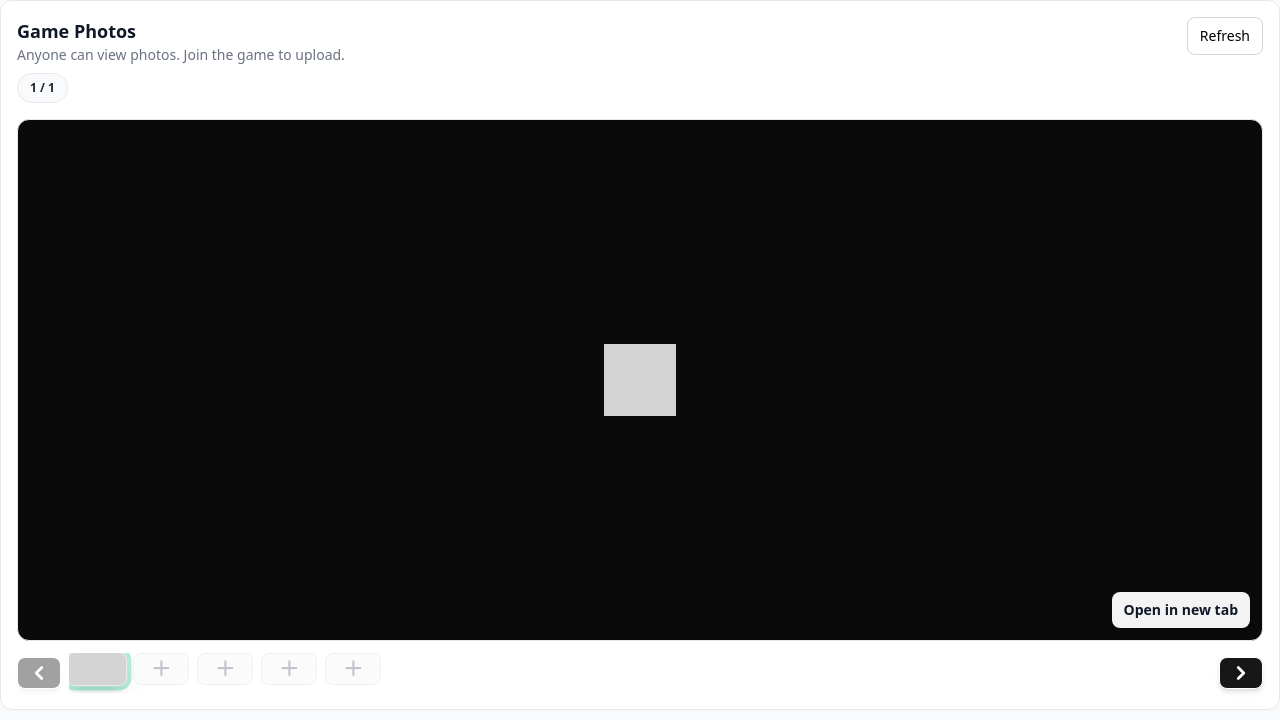
Test: PhotosPanel Component › Prev/Next arrow behavior (slot-based) › Prev is disabled at index 0; Next is disabled only at slot index 4
Check: the text "1 / 1" is shown, box [17,73,68,103]
Check: the button named "Previous thumbnail" is disabled, box [17,657,61,689]
# Move to slot 4
Click the button named "Next thumbnail" at (1241, 673), box [1219,657,1263,689]
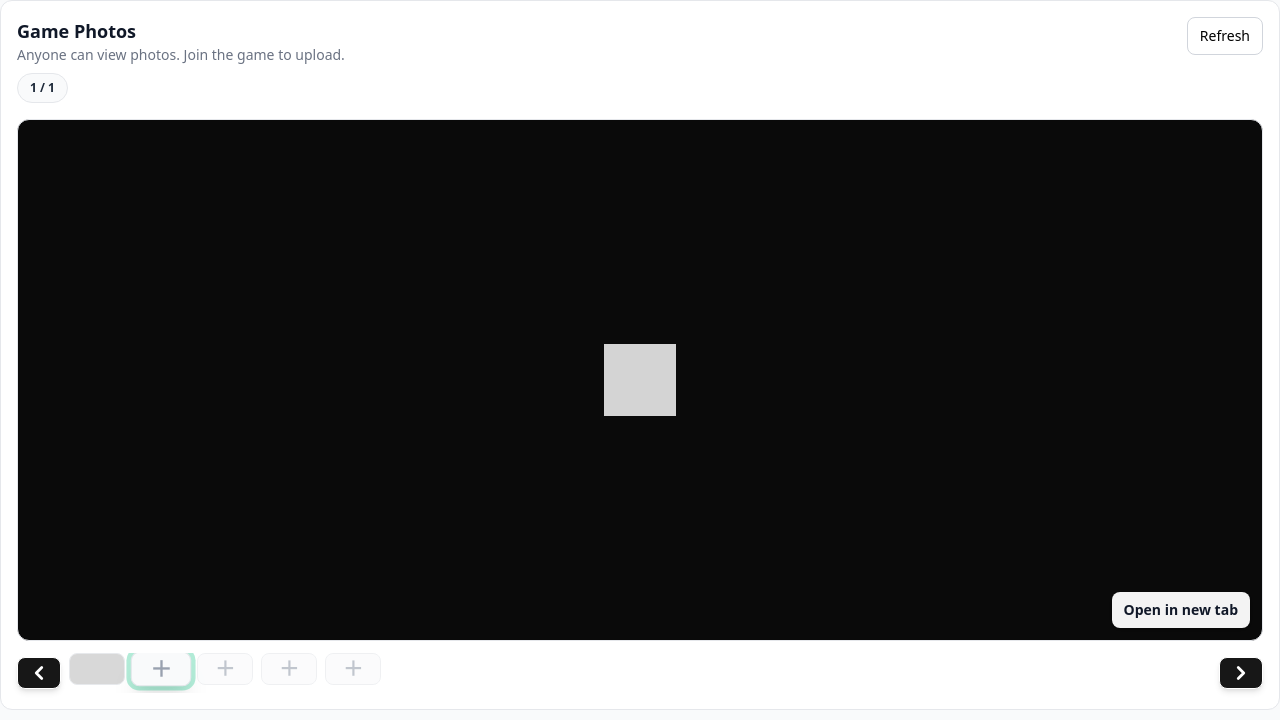
Click the button named "Next thumbnail" at (1241, 673), box [1219,657,1263,689]
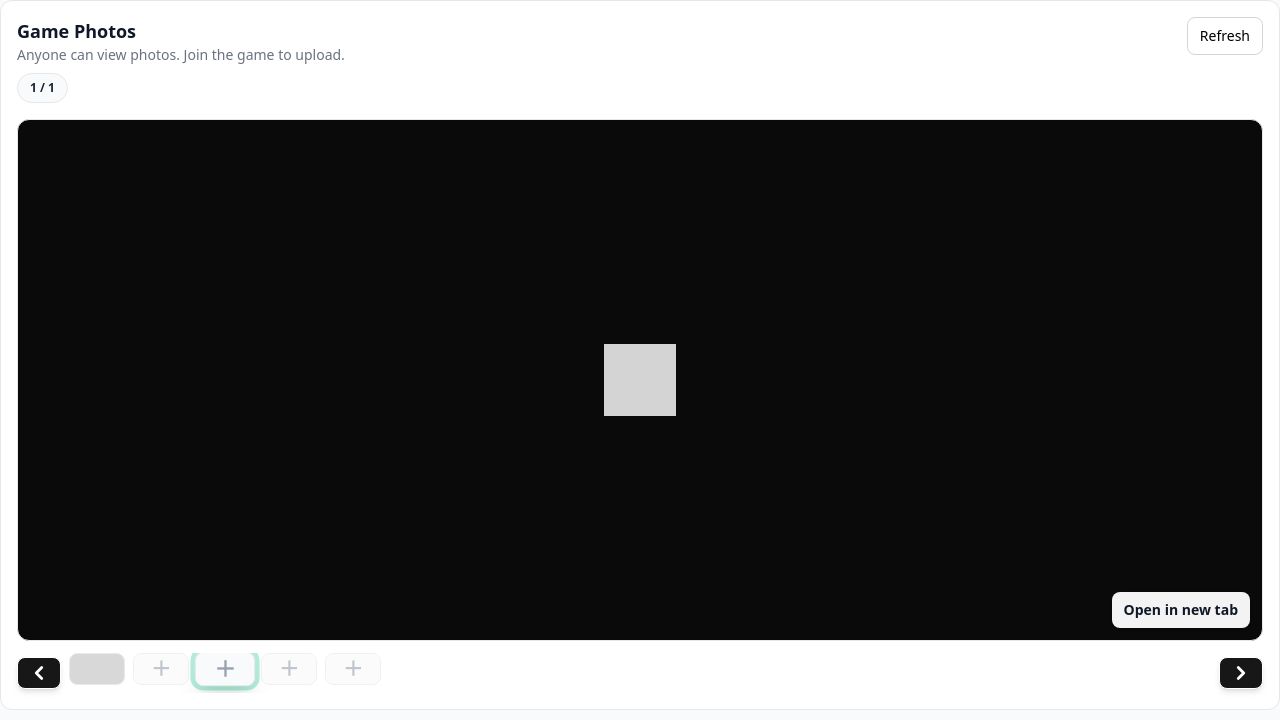
Click the button named "Next thumbnail" at (1241, 673), box [1219,657,1263,689]
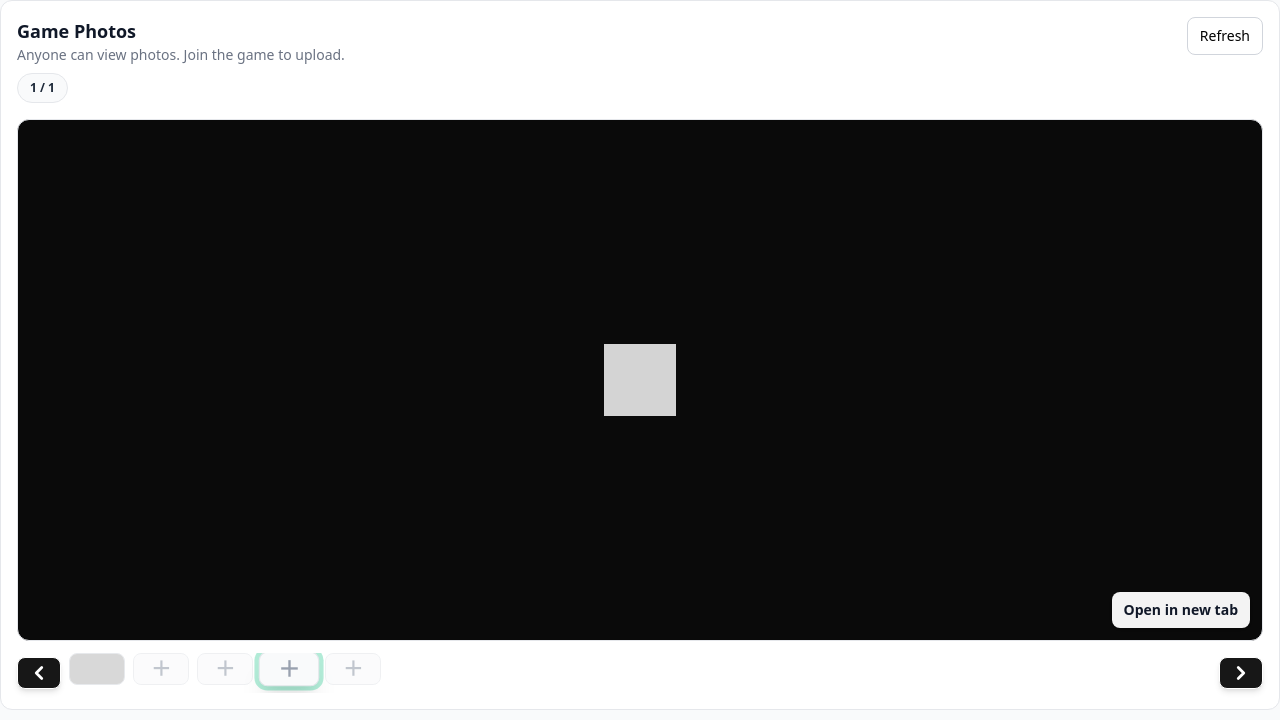
Click the button named "Next thumbnail" at (1241, 673), box [1219,657,1263,689]
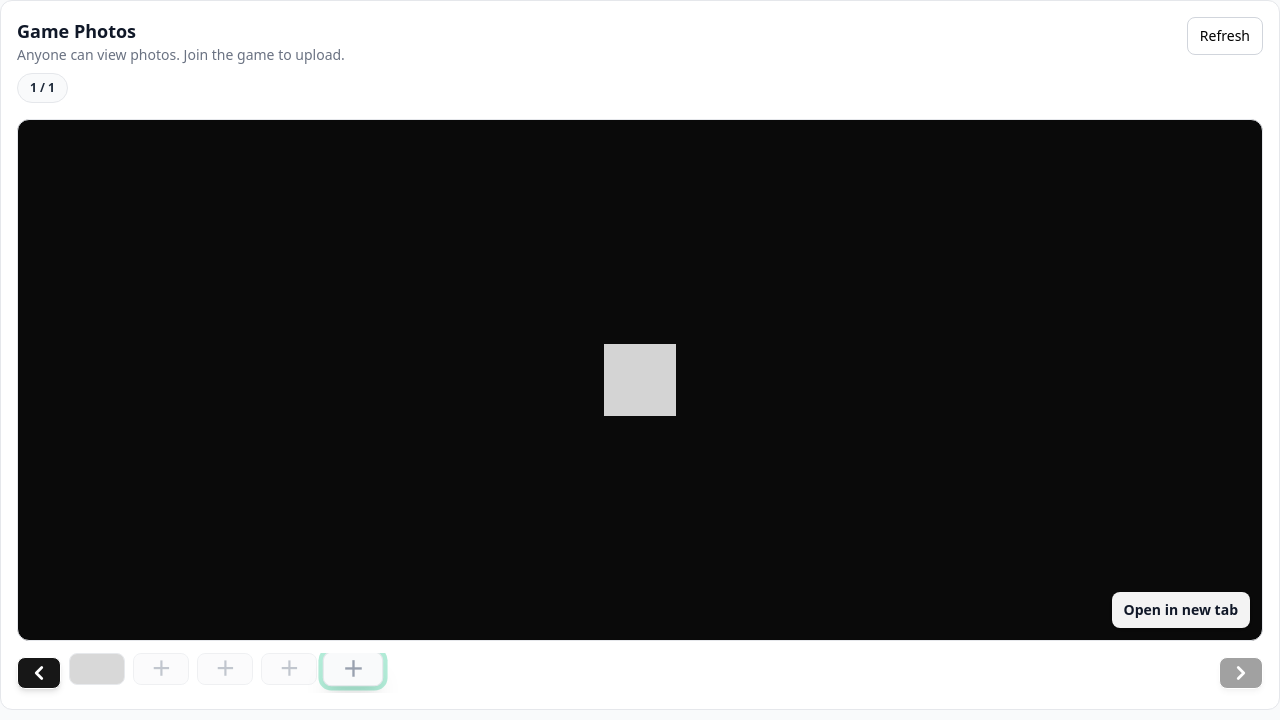
Check: the button named "Previous thumbnail" is enabled, box [17,657,61,689]
Check: the button named "Next thumbnail" is disabled, box [1219,657,1263,689]
